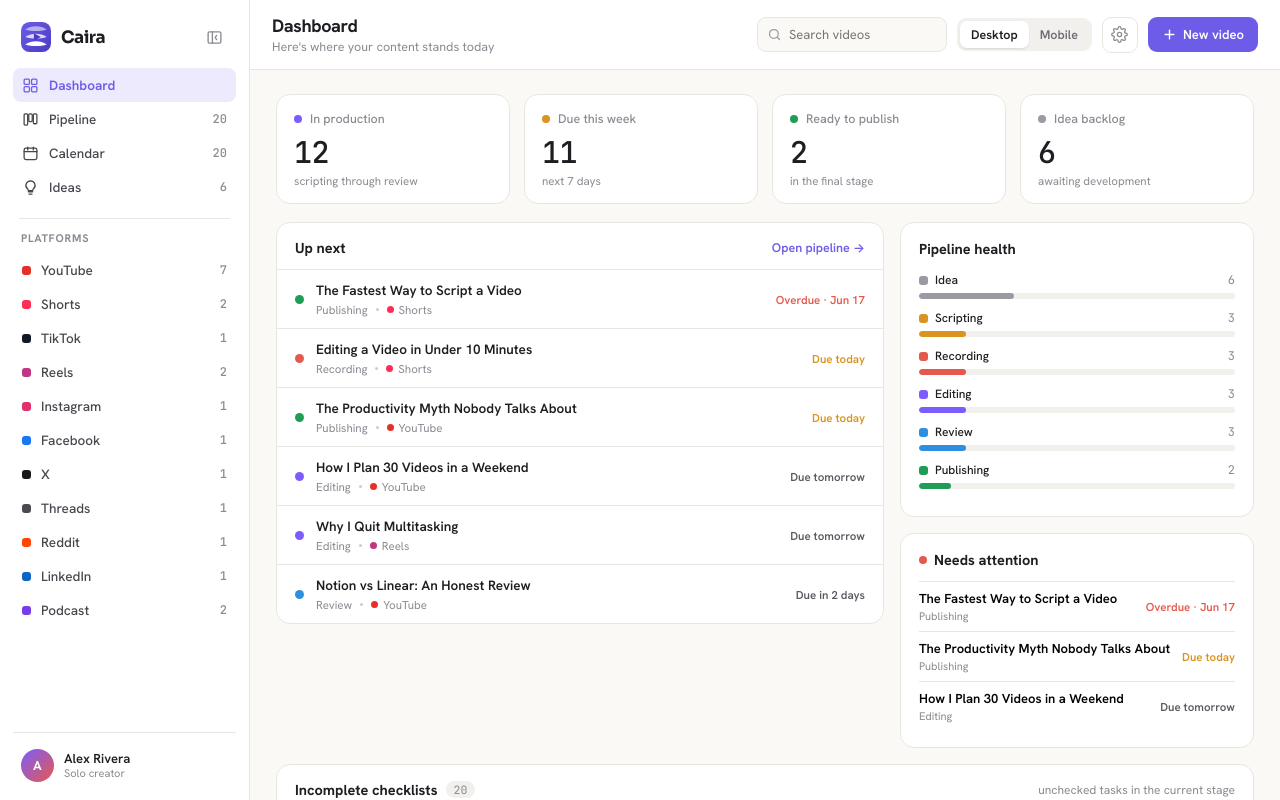
it: the sidebar can be collapsed and reopened
Expected: the text "Caira" is shown, [61,26,105,48]
Click the button titled "Collapse sidebar" at [214, 37], box [200,23,228,51]
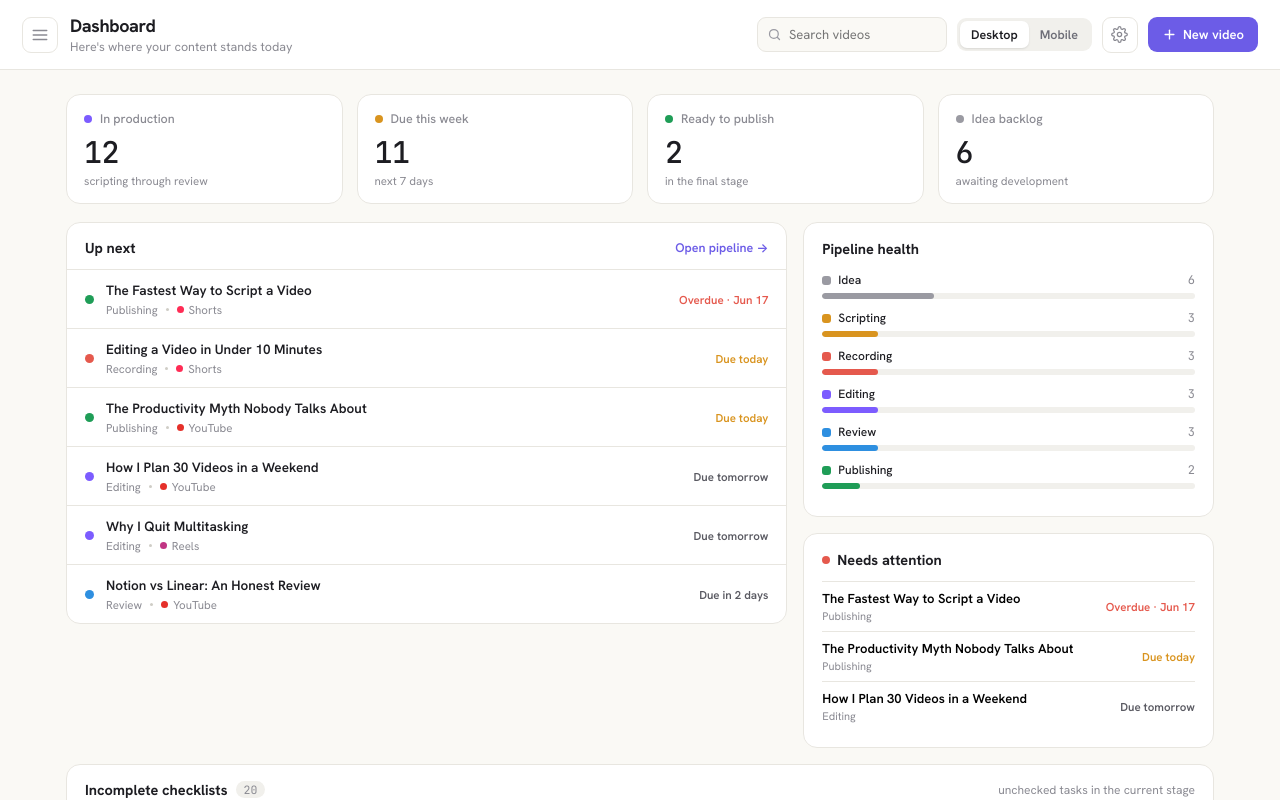
Now the text "Caira" is gone
Click the button titled "Open sidebar" at [40, 34], box [22,16,58,52]
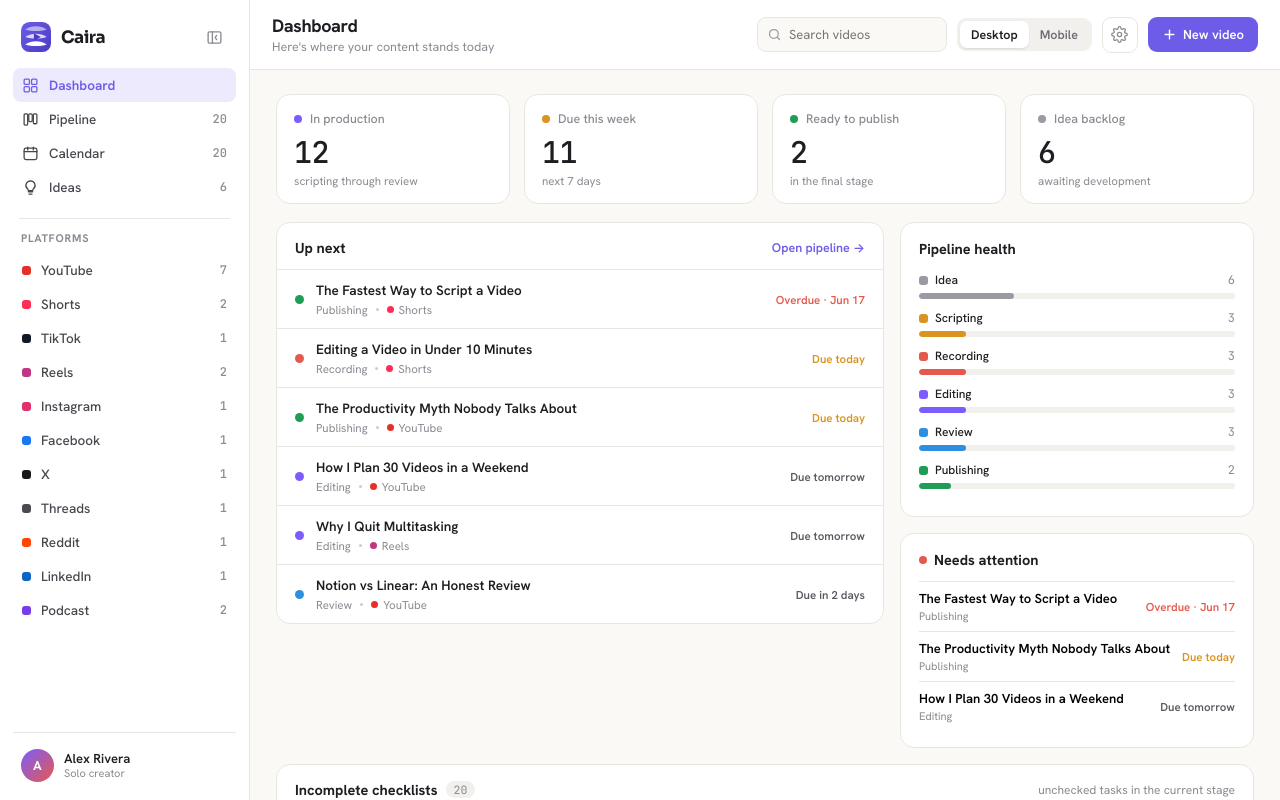
Now the text "Caira" is shown, box [61,26,105,48]
